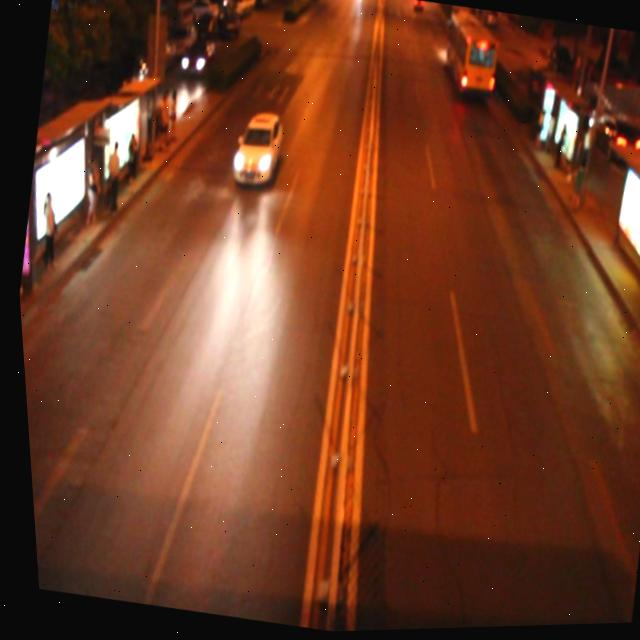car: (222, 107, 286, 193)
van: (437, 11, 503, 96)
